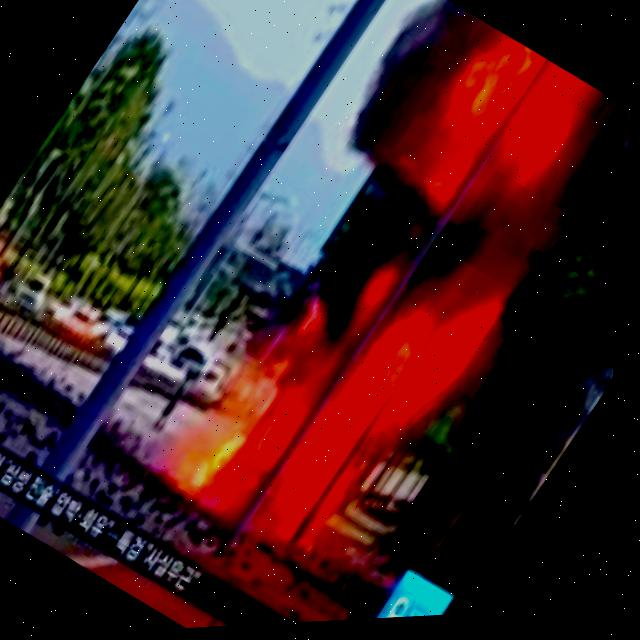Fire: (186, 256, 494, 590), (429, 35, 588, 199)
